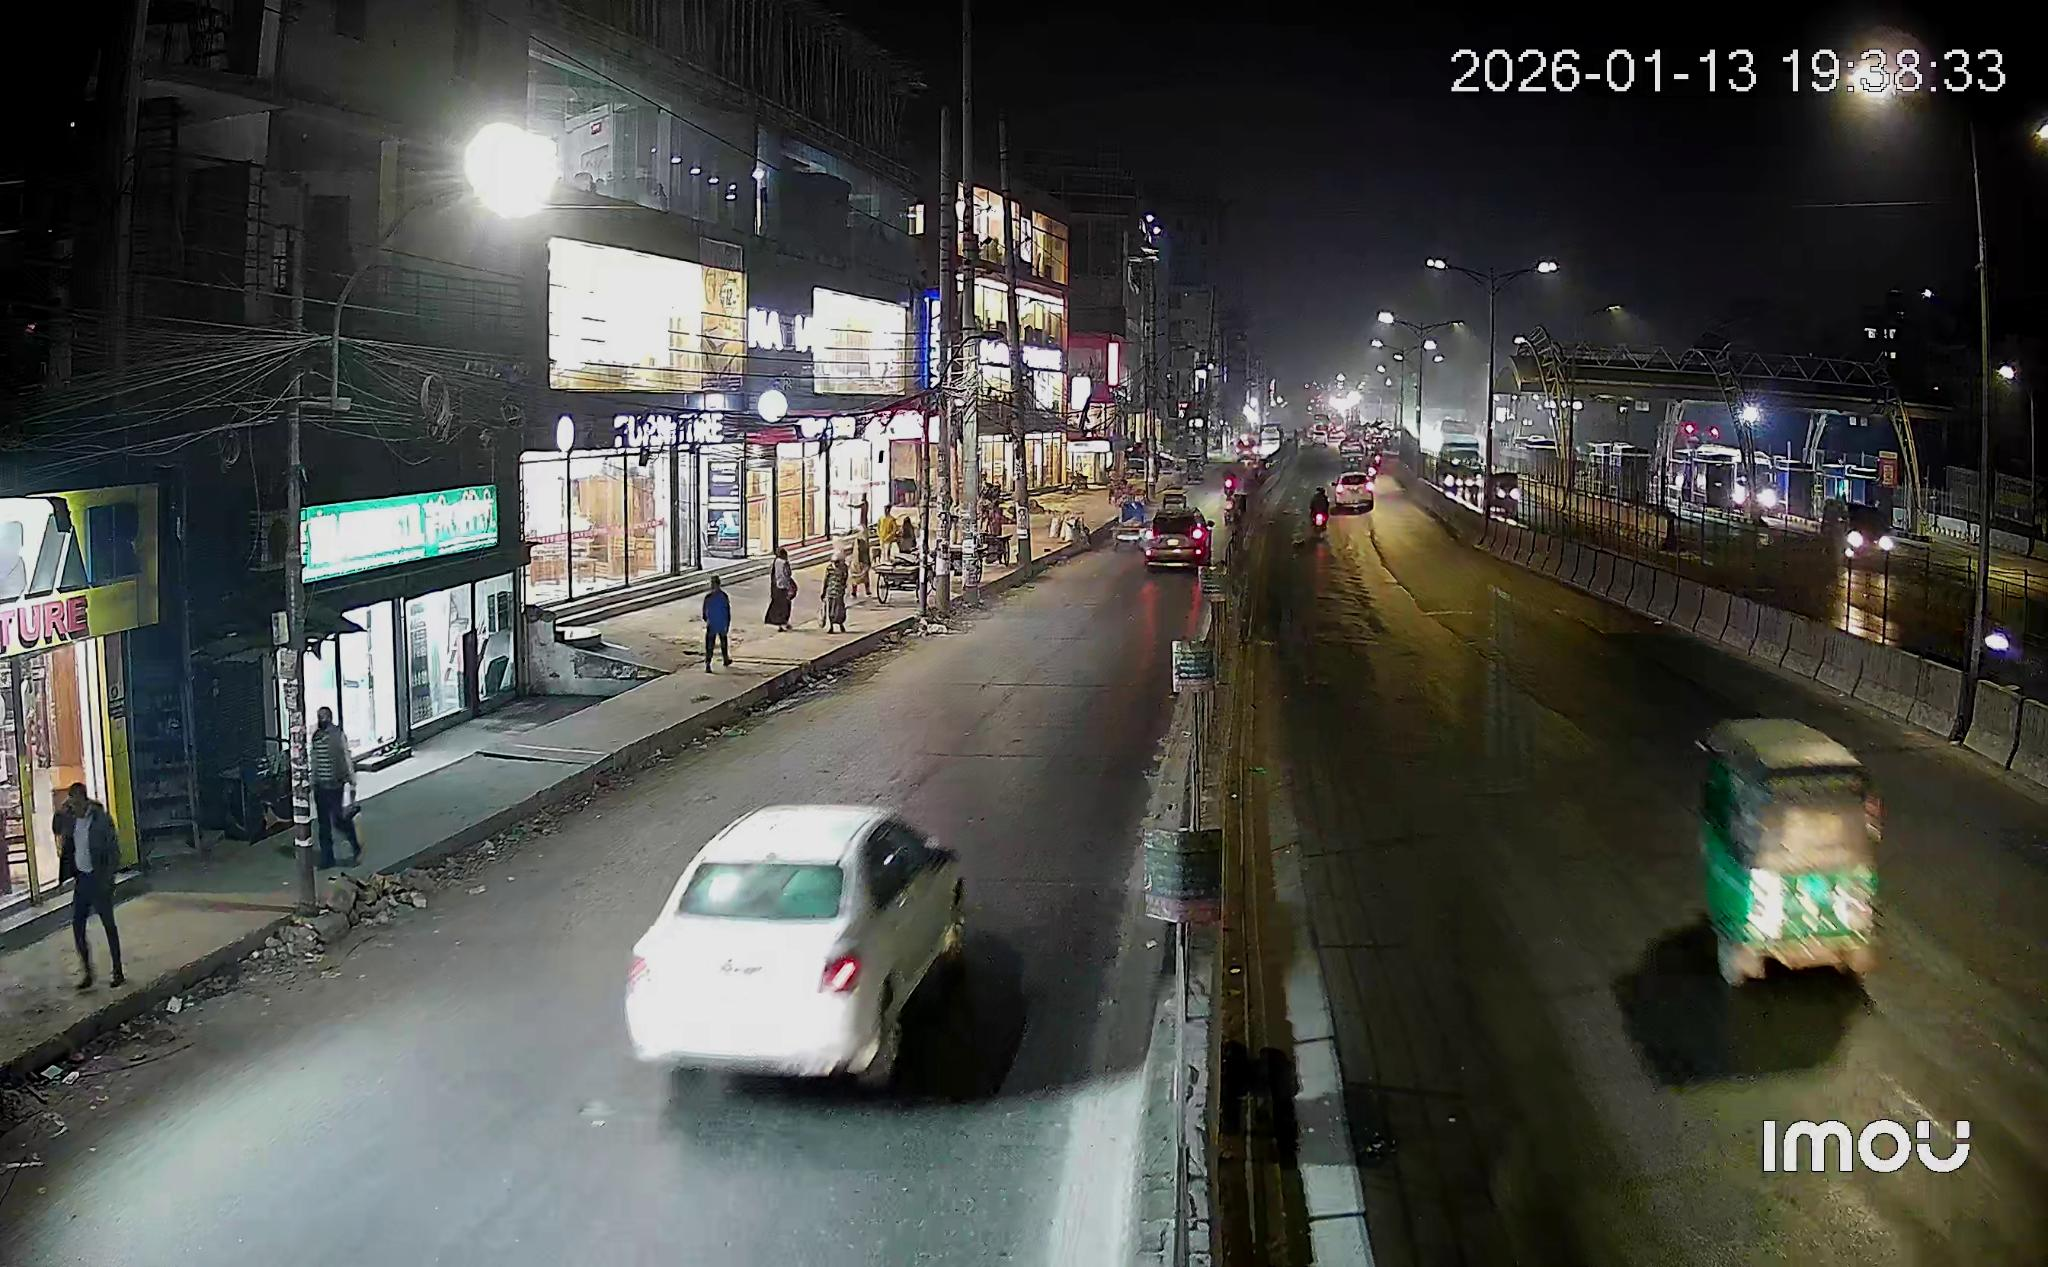CNG-Tempo: (1698, 720, 1881, 988)
Private-Sedan Car: (625, 805, 965, 1087), (1138, 508, 1217, 568)
